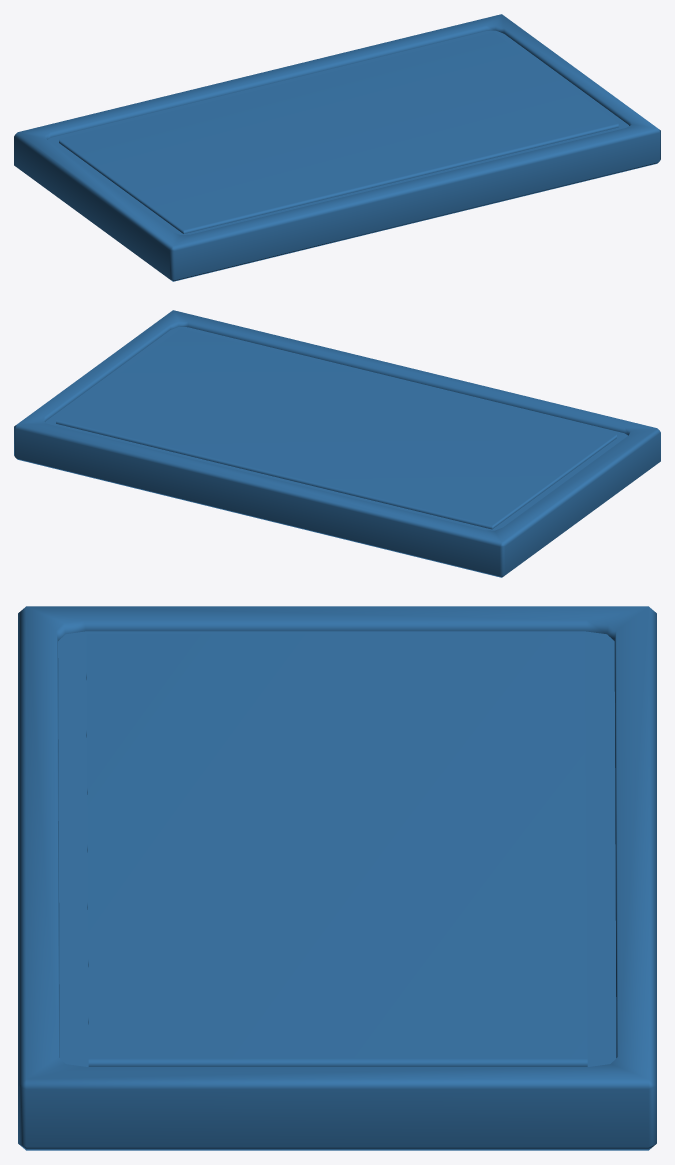
The model's file is tablamadera02.fbx.
3 views of the same model, one above another, from view 1: azimuth 30°, elevation 25°; view 2: azimuth 150°, elevation 25°; view 3: azimuth 270°, elevation 25° (orthographic). The views are drawn at different scales.
Visible parts, largest first — view 1: polySurface2; view 2: polySurface2; view 3: polySurface2.
Boxes of the visible parts, left/top/right/bottom form: polySurface2: left=14, top=14, right=660, bottom=281; polySurface2: left=14, top=310, right=660, bottom=577; polySurface2: left=18, top=606, right=656, bottom=1150.
Size of the model in its own units: 0.3826 by 0.0266 by 0.2154.
